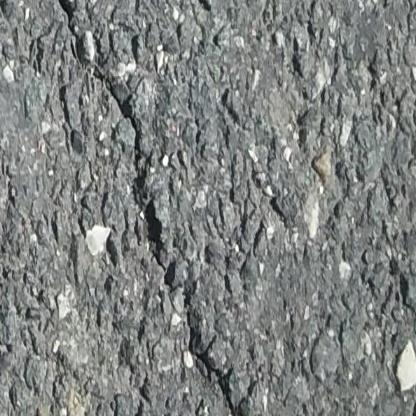Cracks: (43, 0, 244, 413)
